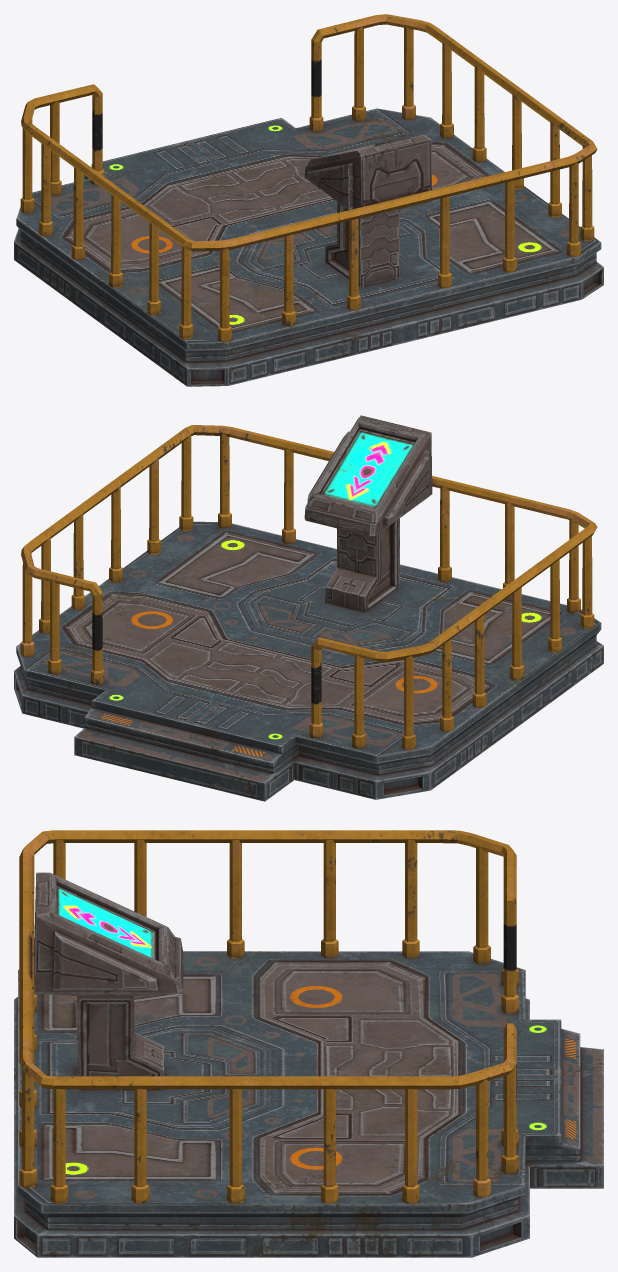
The model's file is FUT0410012.fbx.
3 views of the same model, one above another, from view 1: azimuth 30°, elevation 25°; view 2: azimuth 150°, elevation 25°; view 3: azimuth 270°, elevation 25° (orthographic). The views are drawn at different scales.
Visible parts, largest first — view 1: smFUT0410012; view 2: smFUT0410012; view 3: smFUT0410012.
Boxes of the visible parts, x1=… form: smFUT0410012: x1=14, y1=14, x2=603, y2=386; smFUT0410012: x1=14, y1=415, x2=603, y2=801; smFUT0410012: x1=14, y1=830, x2=603, y2=1257.
Bounding box in the file's own units: 439 × 191 × 430.
Materials: 1 (1 with a texture image).
